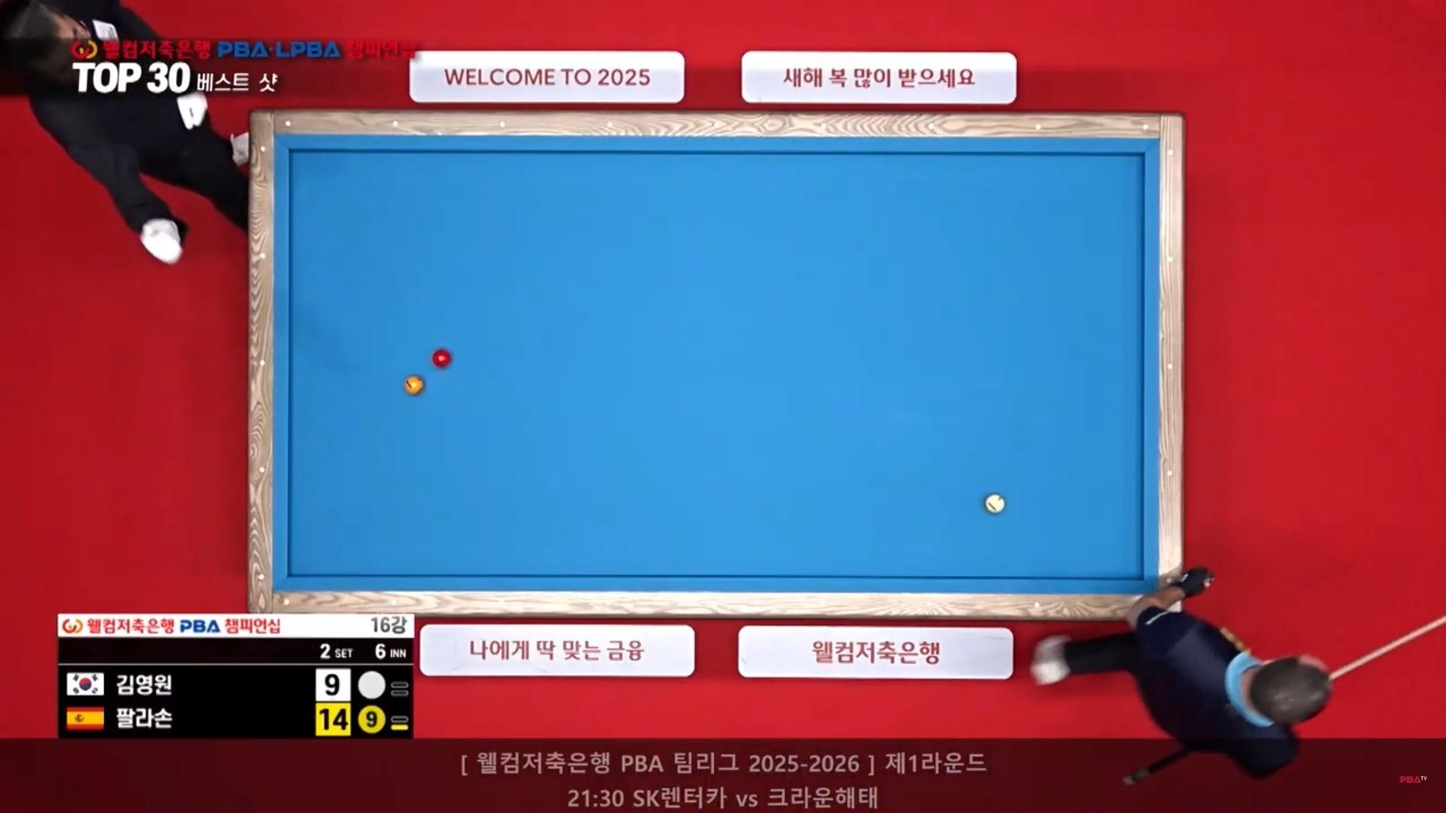Red: (428, 350, 451, 368)
White: (986, 494, 1011, 514)
Yellow: (404, 375, 426, 394)
